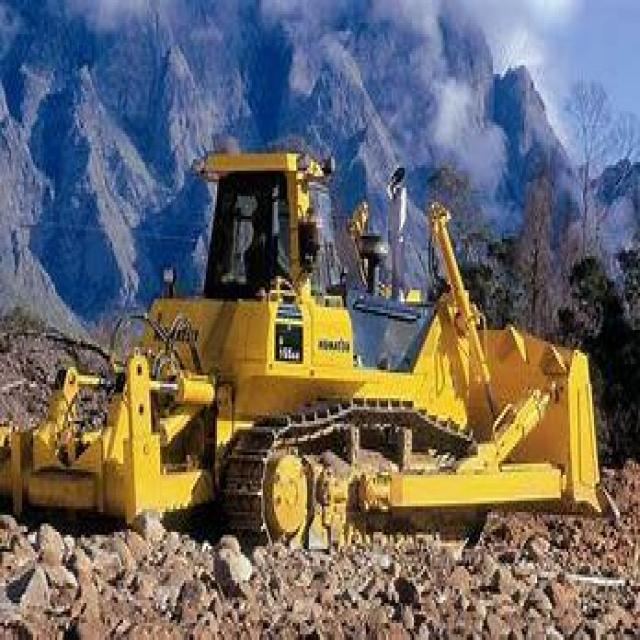Bulldozer: (4, 113, 622, 574)
